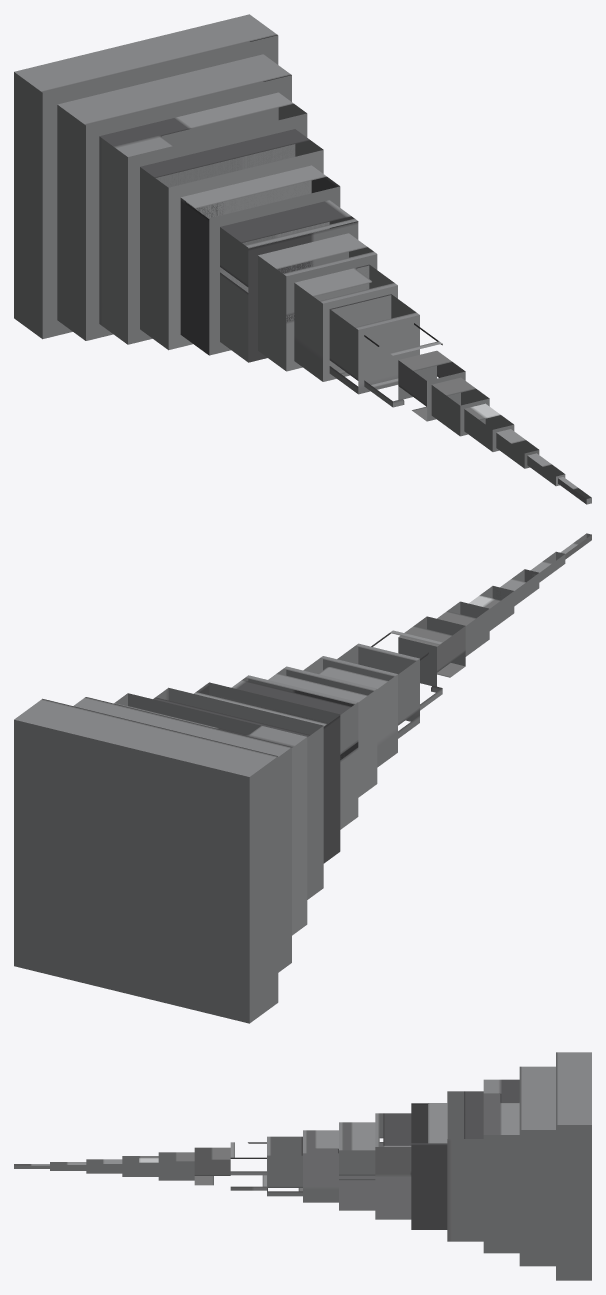
The picture shows the model from 3 angles, top to bottom: view 1: azimuth 30°, elevation 25°; view 2: azimuth 150°, elevation 25°; view 3: azimuth 270°, elevation 25°; orthographic projection. The views are drawn at different scales.
Bounding box in the file's own units: 0.9504 × 0.9504 × 3.2.
